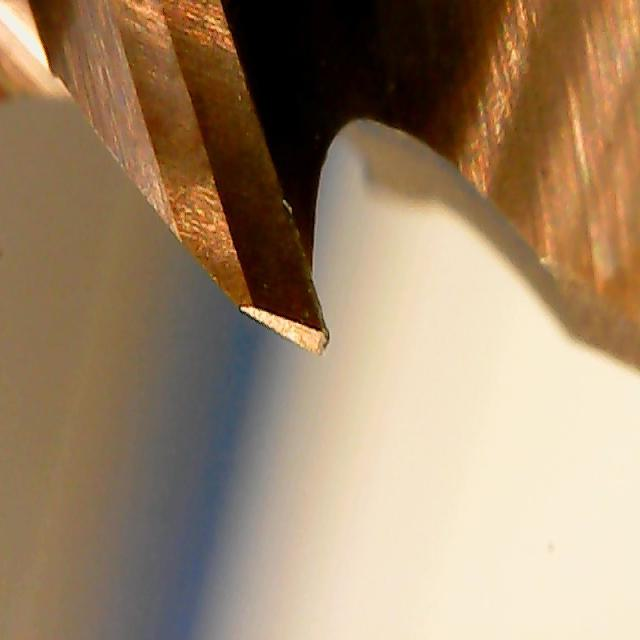Tool-wear-class-1: (191, 116, 348, 374)
